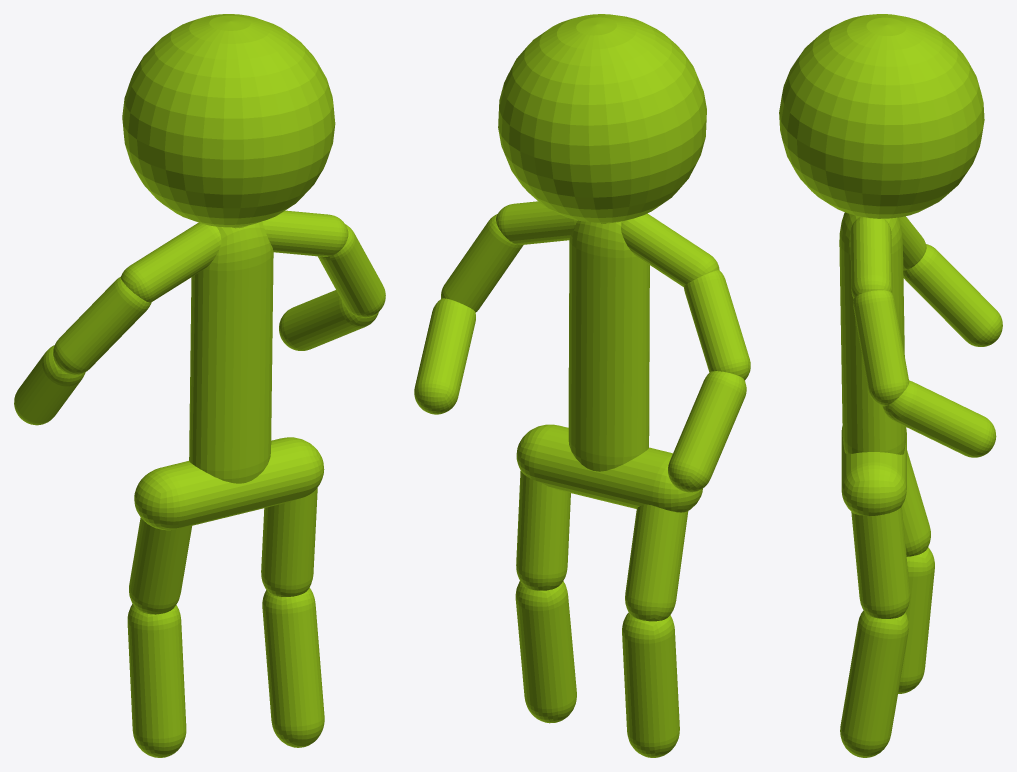
File: Stickman_000021.obj
3 views of the same model, side by side, from view 1: azimuth 30°, elevation 25°; view 2: azimuth 150°, elevation 25°; view 3: azimuth 270°, elevation 25° (orthographic). The views are drawn at different scales.
Visible parts, largest first — view 1: Head_Sphere.001, Body_Roundcube.002, Hip_Roundcube.005, LowerLegLeft_Roundcube.013, LowerLegRight_Roundcube.011, UpperLegLeft_Roundcube.012, UpperArmRight_Roundcube.015, UpperLegRight_Roundcube.010, ShoulderRight_Roundcube.014, LowerArmLeft_Roundcube.019, ShoulderLeft_Roundcube.017, UpperArmLeft_Roundcube.018 (+1 smaller); view 2: Head_Sphere.001, Body_Roundcube.002, Hip_Roundcube.005, LowerLegRight_Roundcube.011, LowerLegLeft_Roundcube.013, UpperLegRight_Roundcube.010, LowerArmRight_Roundcube.016, UpperLegLeft_Roundcube.012, LowerArmLeft_Roundcube.019, UpperArmRight_Roundcube.015, ShoulderRight_Roundcube.014, UpperArmLeft_Roundcube.018 (+1 smaller); view 3: Head_Sphere.001, Body_Roundcube.002, LowerLegLeft_Roundcube.013, UpperLegLeft_Roundcube.012, LowerArmRight_Roundcube.016, LowerArmLeft_Roundcube.019, UpperArmLeft_Roundcube.018, Hip_Roundcube.005, LowerLegRight_Roundcube.011, ShoulderLeft_Roundcube.017, UpperLegRight_Roundcube.010, UpperArmRight_Roundcube.015.
Boxes of the visible parts, bbox=[...] form: Head_Sphere.001: bbox=[122, 14, 335, 227]; Body_Roundcube.002: bbox=[189, 221, 273, 483]; Hip_Roundcube.005: bbox=[134, 437, 324, 530]; LowerLegLeft_Roundcube.013: bbox=[262, 587, 324, 747]; LowerLegRight_Roundcube.011: bbox=[127, 604, 186, 757]; UpperLegLeft_Roundcube.012: bbox=[261, 488, 317, 596]; UpperArmRight_Roundcube.015: bbox=[53, 276, 151, 374]; UpperLegRight_Roundcube.010: bbox=[129, 518, 191, 614]; ShoulderRight_Roundcube.014: bbox=[120, 222, 221, 302]; LowerArmLeft_Roundcube.019: bbox=[279, 290, 378, 350]; ShoulderLeft_Roundcube.017: bbox=[262, 210, 348, 256]; UpperArmLeft_Roundcube.018: bbox=[318, 224, 385, 317]; Head_Sphere.001: bbox=[498, 14, 706, 223]; Body_Roundcube.002: bbox=[568, 220, 649, 471]; Hip_Roundcube.005: bbox=[516, 424, 702, 512]; LowerLegRight_Roundcube.011: bbox=[622, 612, 679, 757]; LowerLegLeft_Roundcube.013: bbox=[515, 581, 576, 723]; UpperLegRight_Roundcube.010: bbox=[625, 504, 688, 621]; LowerArmRight_Roundcube.016: bbox=[668, 371, 746, 492]; UpperLegLeft_Roundcube.012: bbox=[516, 471, 570, 590]; LowerArmLeft_Roundcube.019: bbox=[414, 298, 475, 414]; UpperArmRight_Roundcube.015: bbox=[684, 270, 750, 380]; ShoulderRight_Roundcube.014: bbox=[621, 213, 719, 287]; UpperArmLeft_Roundcube.018: bbox=[441, 214, 523, 312]; Head_Sphere.001: bbox=[779, 14, 984, 218]; Body_Roundcube.002: bbox=[839, 212, 906, 454]; LowerLegLeft_Roundcube.013: bbox=[840, 610, 908, 757]; UpperLegLeft_Roundcube.012: bbox=[851, 506, 910, 618]; LowerArmRight_Roundcube.016: bbox=[903, 244, 1002, 346]; LowerArmLeft_Roundcube.019: bbox=[882, 380, 996, 457]; UpperArmLeft_Roundcube.018: bbox=[853, 290, 909, 406]; Hip_Roundcube.005: bbox=[841, 426, 906, 516]; LowerLegRight_Roundcube.011: bbox=[898, 547, 934, 693]; ShoulderLeft_Roundcube.017: bbox=[850, 216, 892, 298]; UpperLegRight_Roundcube.010: bbox=[902, 450, 930, 556]; UpperArmRight_Roundcube.015: bbox=[899, 216, 926, 270].
Size of the model in its own units: 4.96 by 10.69 by 3.08.
